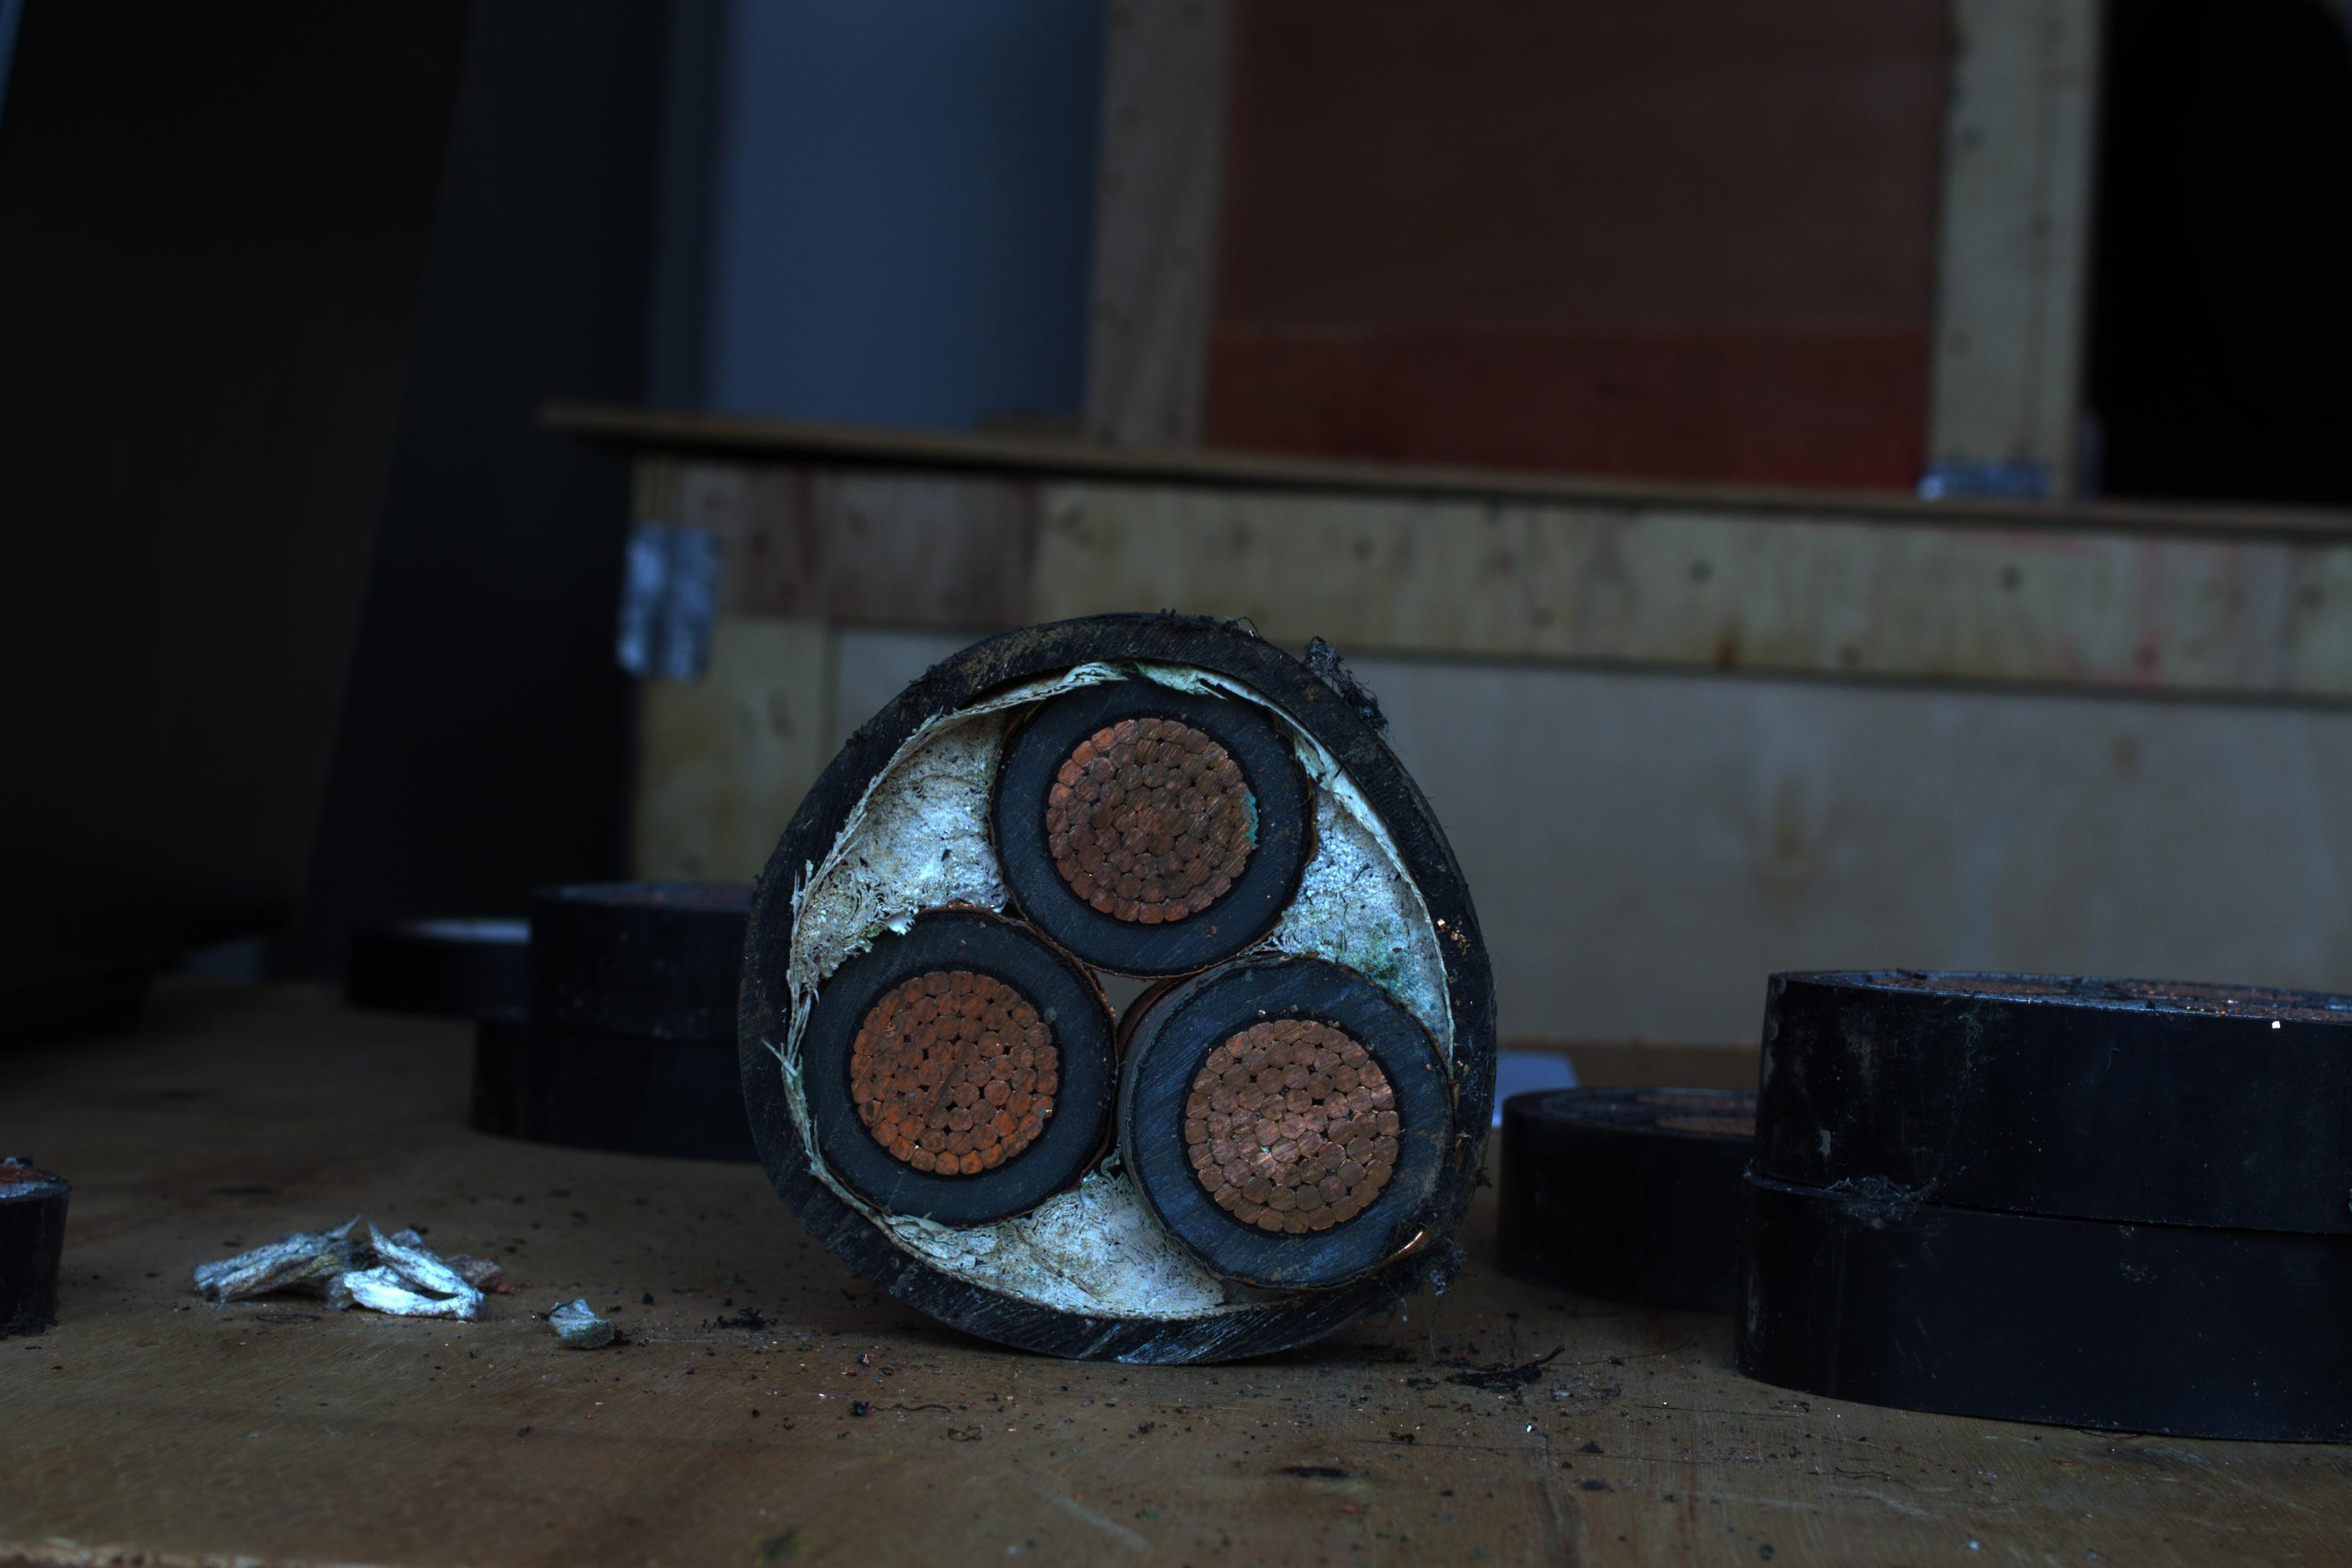ZA_YJV_8.7_10kV_3x400: (756, 625, 1507, 1351)
